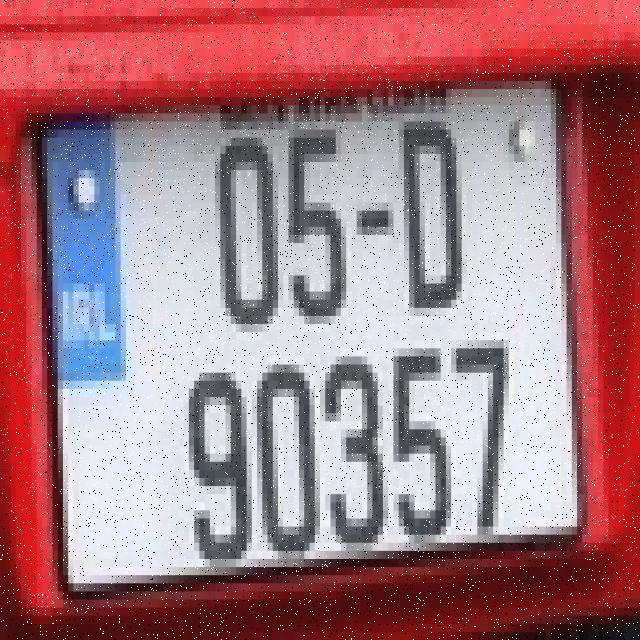licenseplate: (27, 93, 609, 611)
